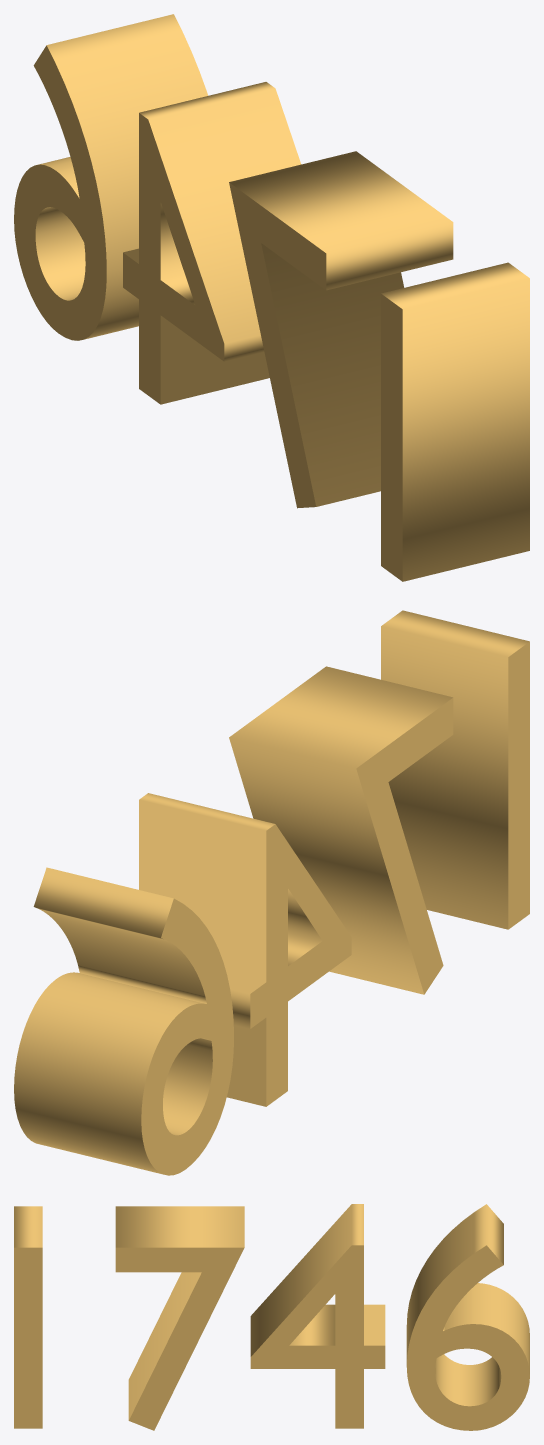
The model's file is scene_date_1746.glb.
3 views of the same model, one above another, from view 1: azimuth 30°, elevation 25°; view 2: azimuth 150°, elevation 25°; view 3: azimuth 270°, elevation 25° (orthographic). The views are drawn at different scales.
Visible parts, largest first — view 1: Text; view 2: Text; view 3: Text.
Part boxes in pixels (x1,y1,x2,y2): Text: (14, 14, 529, 581); Text: (14, 610, 529, 1175); Text: (14, 1204, 529, 1430).
Size of the model in its own units: 1 by 2.1 by 5.29.
